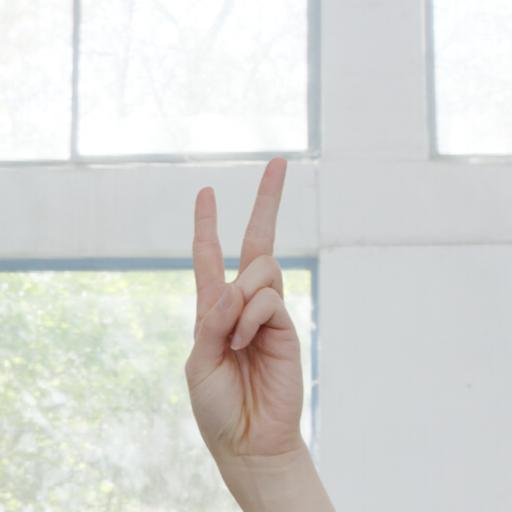V: (166, 149, 336, 512)
